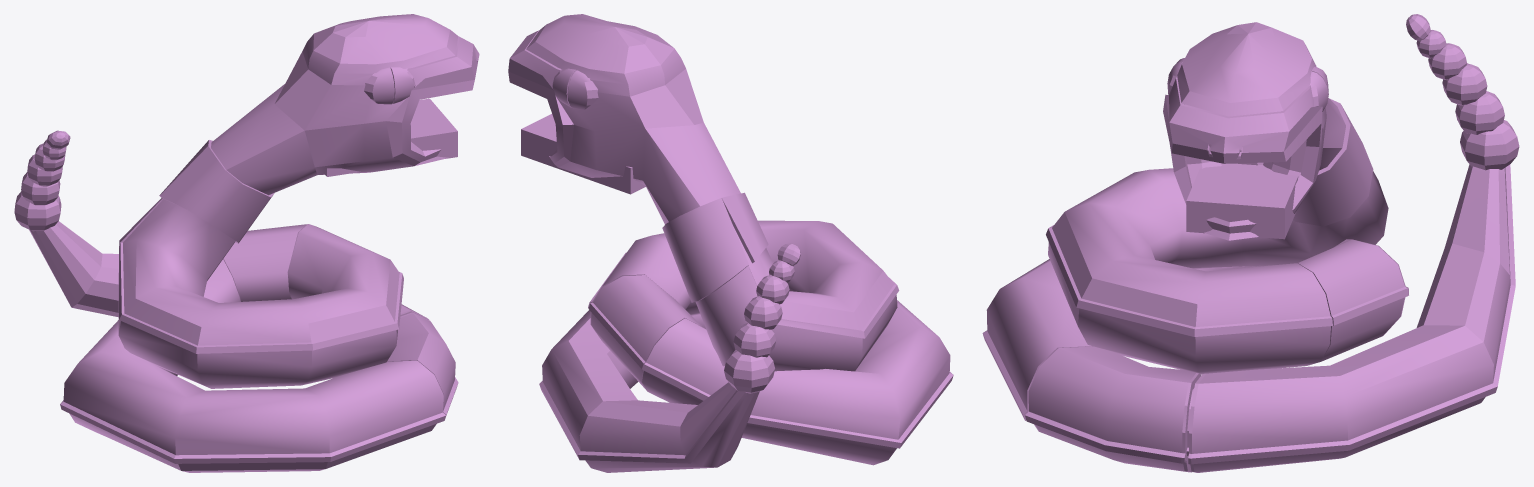
Rendered from ekans.glb.
The picture shows the model from 3 angles, left to right: view 1: azimuth 30°, elevation 25°; view 2: azimuth 150°, elevation 25°; view 3: azimuth 270°, elevation 25°; orthographic projection. The views are drawn at different scales.
Parts seen in each view (by area): view 1: Node; view 2: Node; view 3: Node.
Part boxes in pixels (x1,y1,x2,y2): Node: (14,14,479,472); Node: (508,14,953,472); Node: (982,14,1519,472).
Size of the model in its own units: 9.63 by 8.3 by 9.39.
